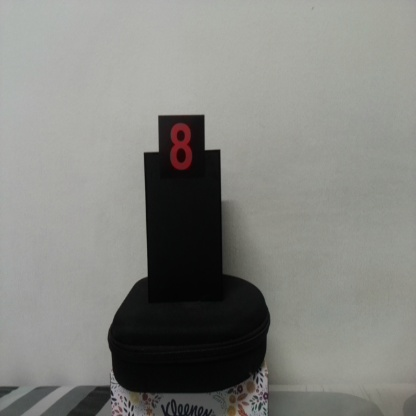id_8: (158, 115, 205, 186)
